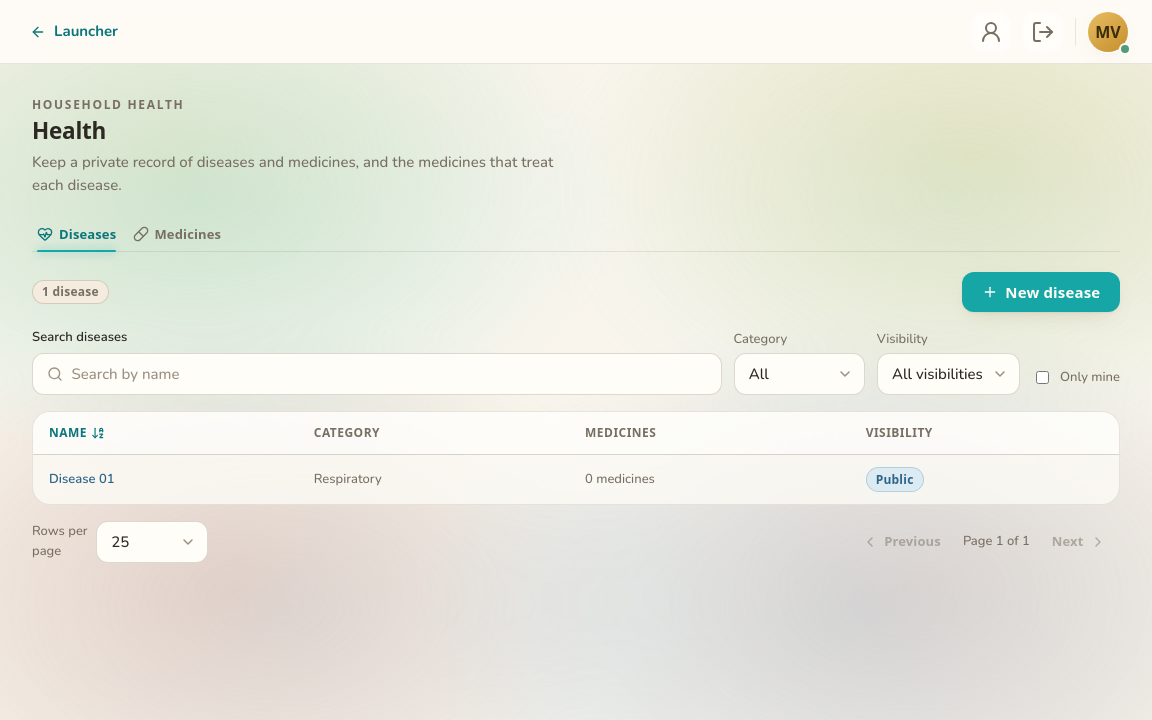
Test: Health page — diseases tab › validates the name before creating a disease
Expected: the button "Disease 01" is shown, x1=49 y1=470 x2=114 y2=489
What coordinates should you click on to do the following:
click the button "New disease"
I would click on:
 (1041, 292)
Its box is x1=962 y1=272 x2=1120 y2=312.
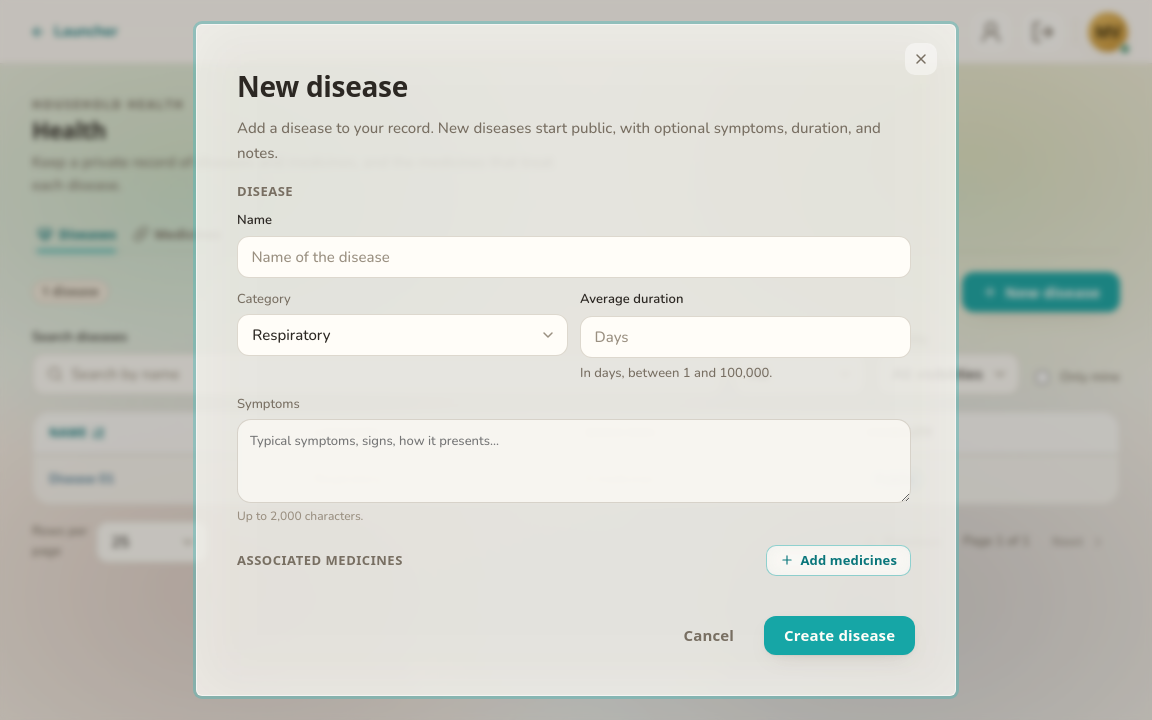
What coordinates should you click on to do the following:
click the button "Create disease"
I would click on:
 (840, 636)
Its box is x1=764 y1=616 x2=915 y2=655.
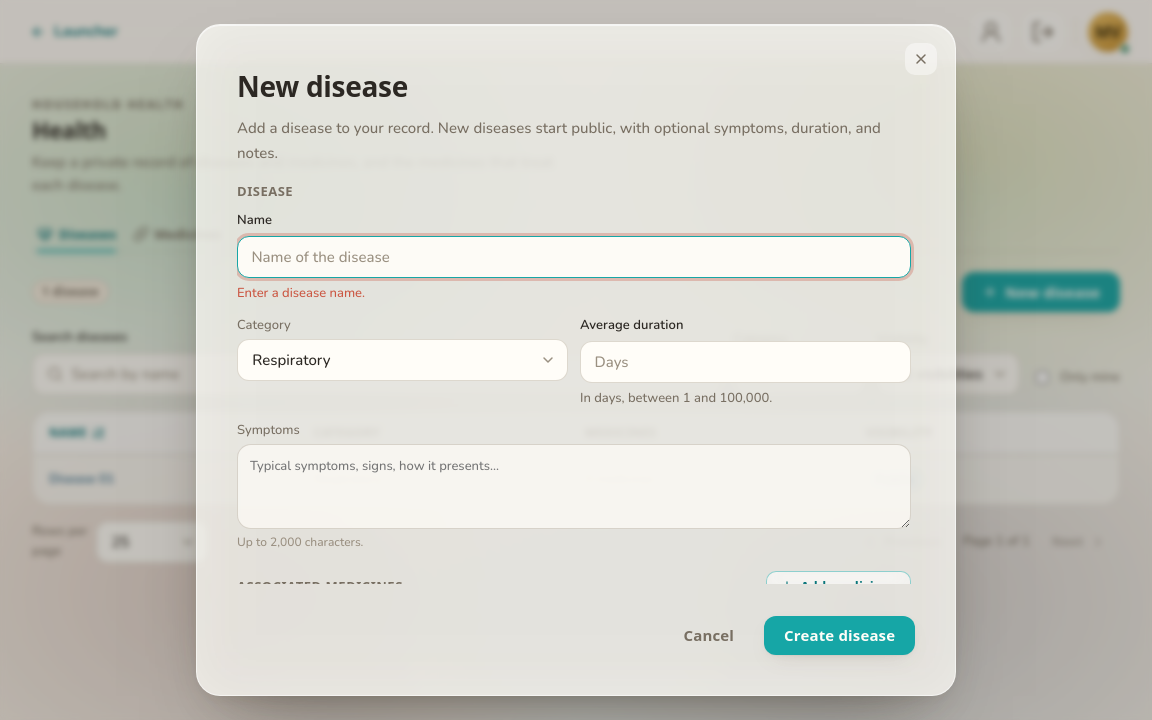
Result: the text "Enter a disease name." is shown at x1=237 y1=284 x2=365 y2=302
